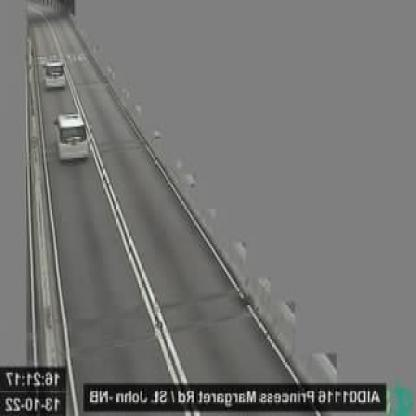Car: (53, 112, 89, 164), (43, 58, 67, 90)
